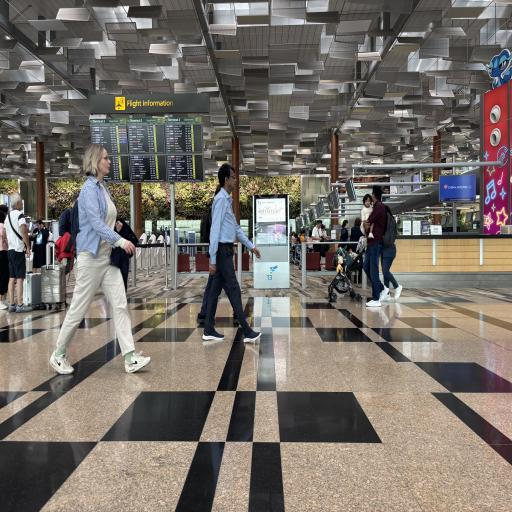person_right: (64, 124, 154, 386), (204, 160, 263, 357)
